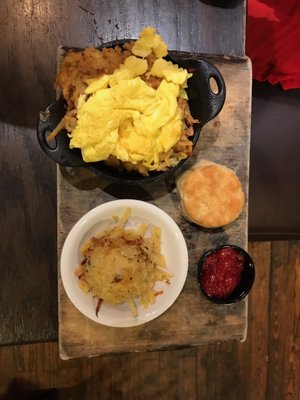sushi: (38, 55, 226, 202), (60, 200, 189, 329)
